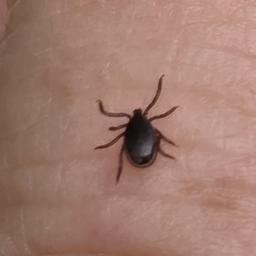Ixodes scapularis: (94, 74, 180, 186)
